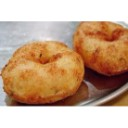vada: (4, 41, 82, 100), (74, 19, 128, 74)
